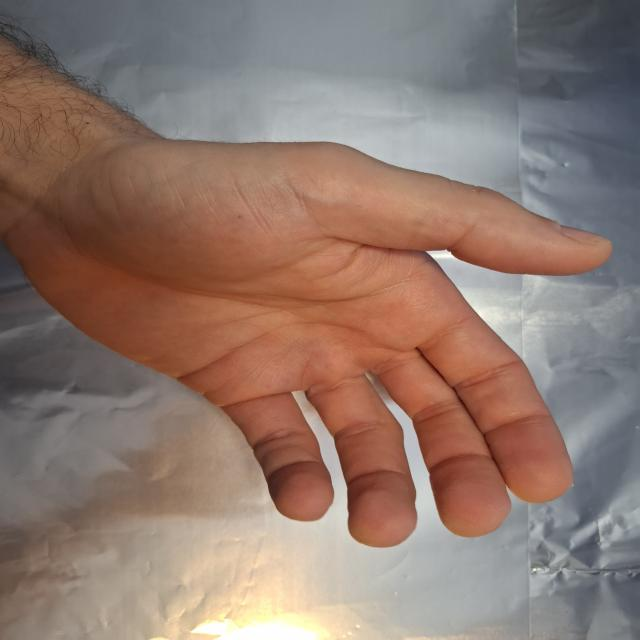glove_off: (15, 84, 617, 552)
